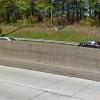Tree: (18, 0, 94, 28)
